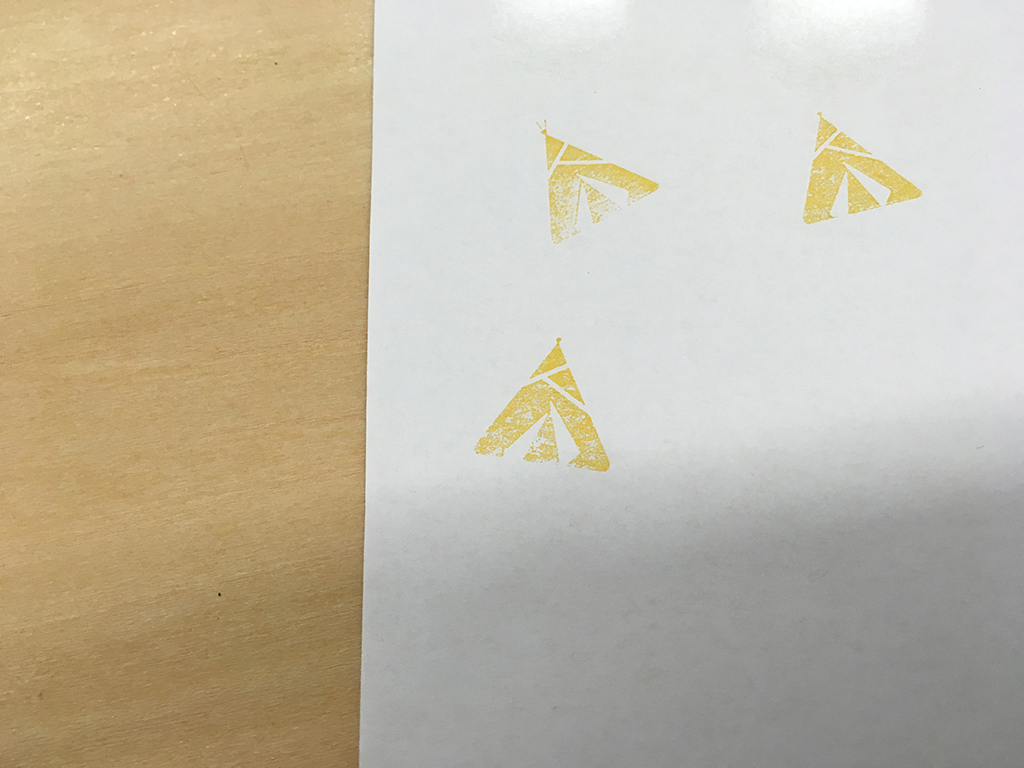tent: (472, 333, 617, 476), (530, 116, 668, 252), (796, 109, 926, 234)
